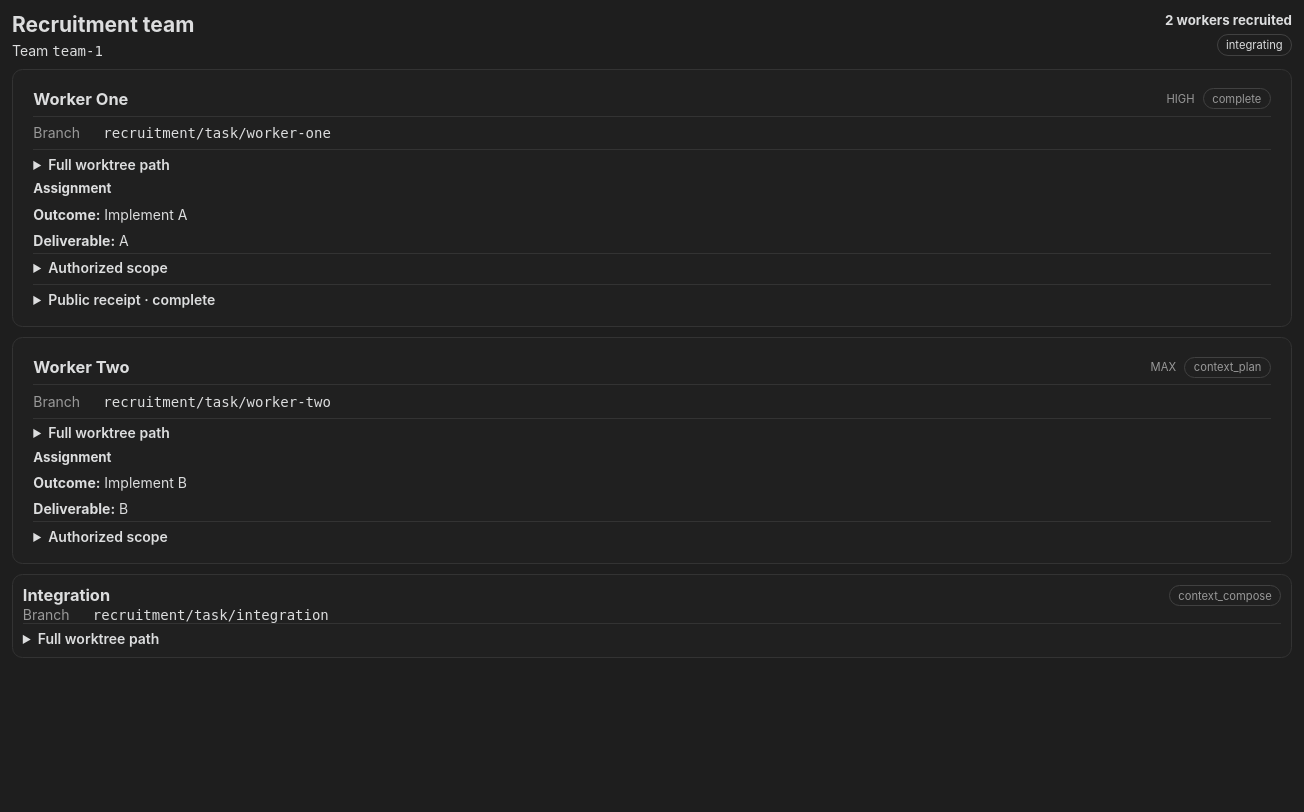
Test: recruitment roster panel › shows the actual recruited count and one distinct worker bar per worker, separate from integration
Check: the text "2 workers recruited" is shown, box [1165, 12, 1292, 28]
Check: the heading "Worker One" is shown, box [33, 89, 128, 109]
What coordinates should you click on to do the following:
click the heading "Full worktree path" below "recruitment/task/worker-two"
I would click on:
 (102, 433)
Its box is [33, 424, 170, 441].
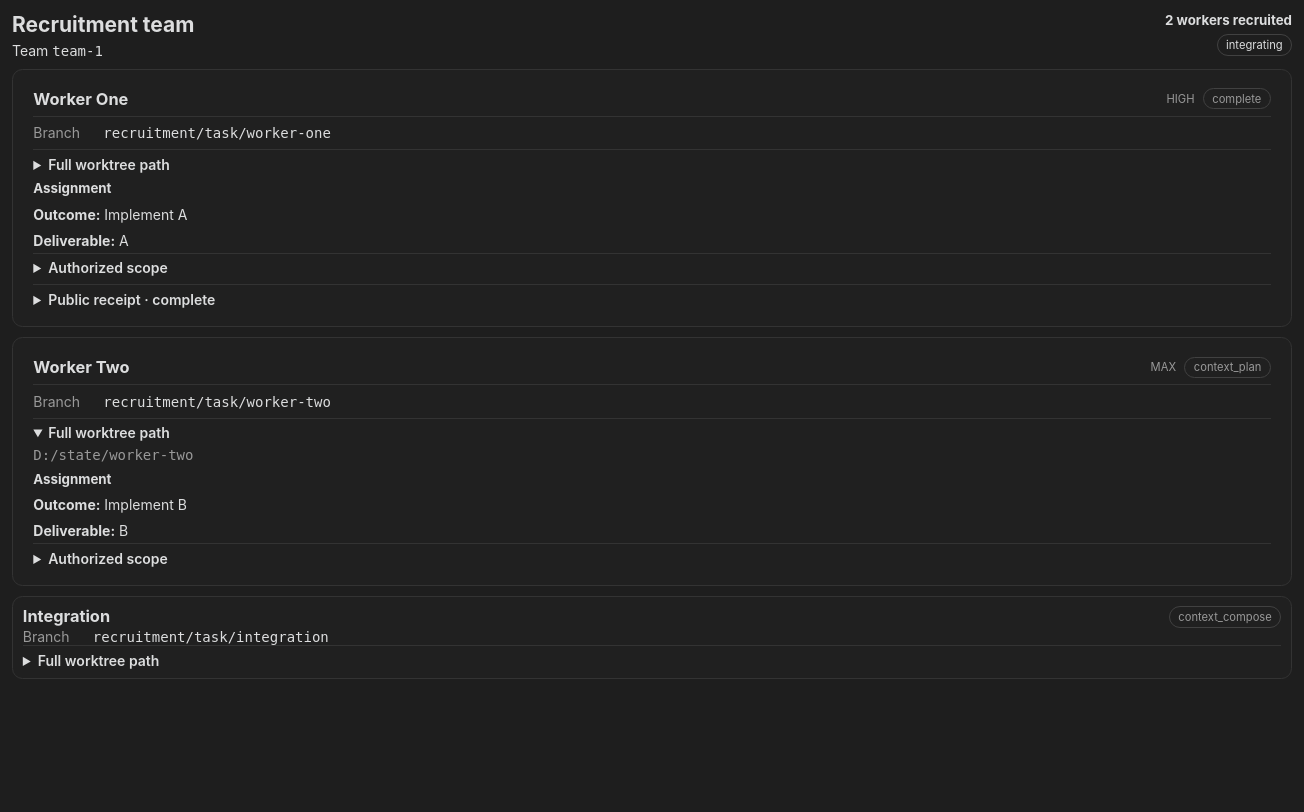
Check: the text "D:/state/worker-two" is shown, box [33, 447, 194, 463]
